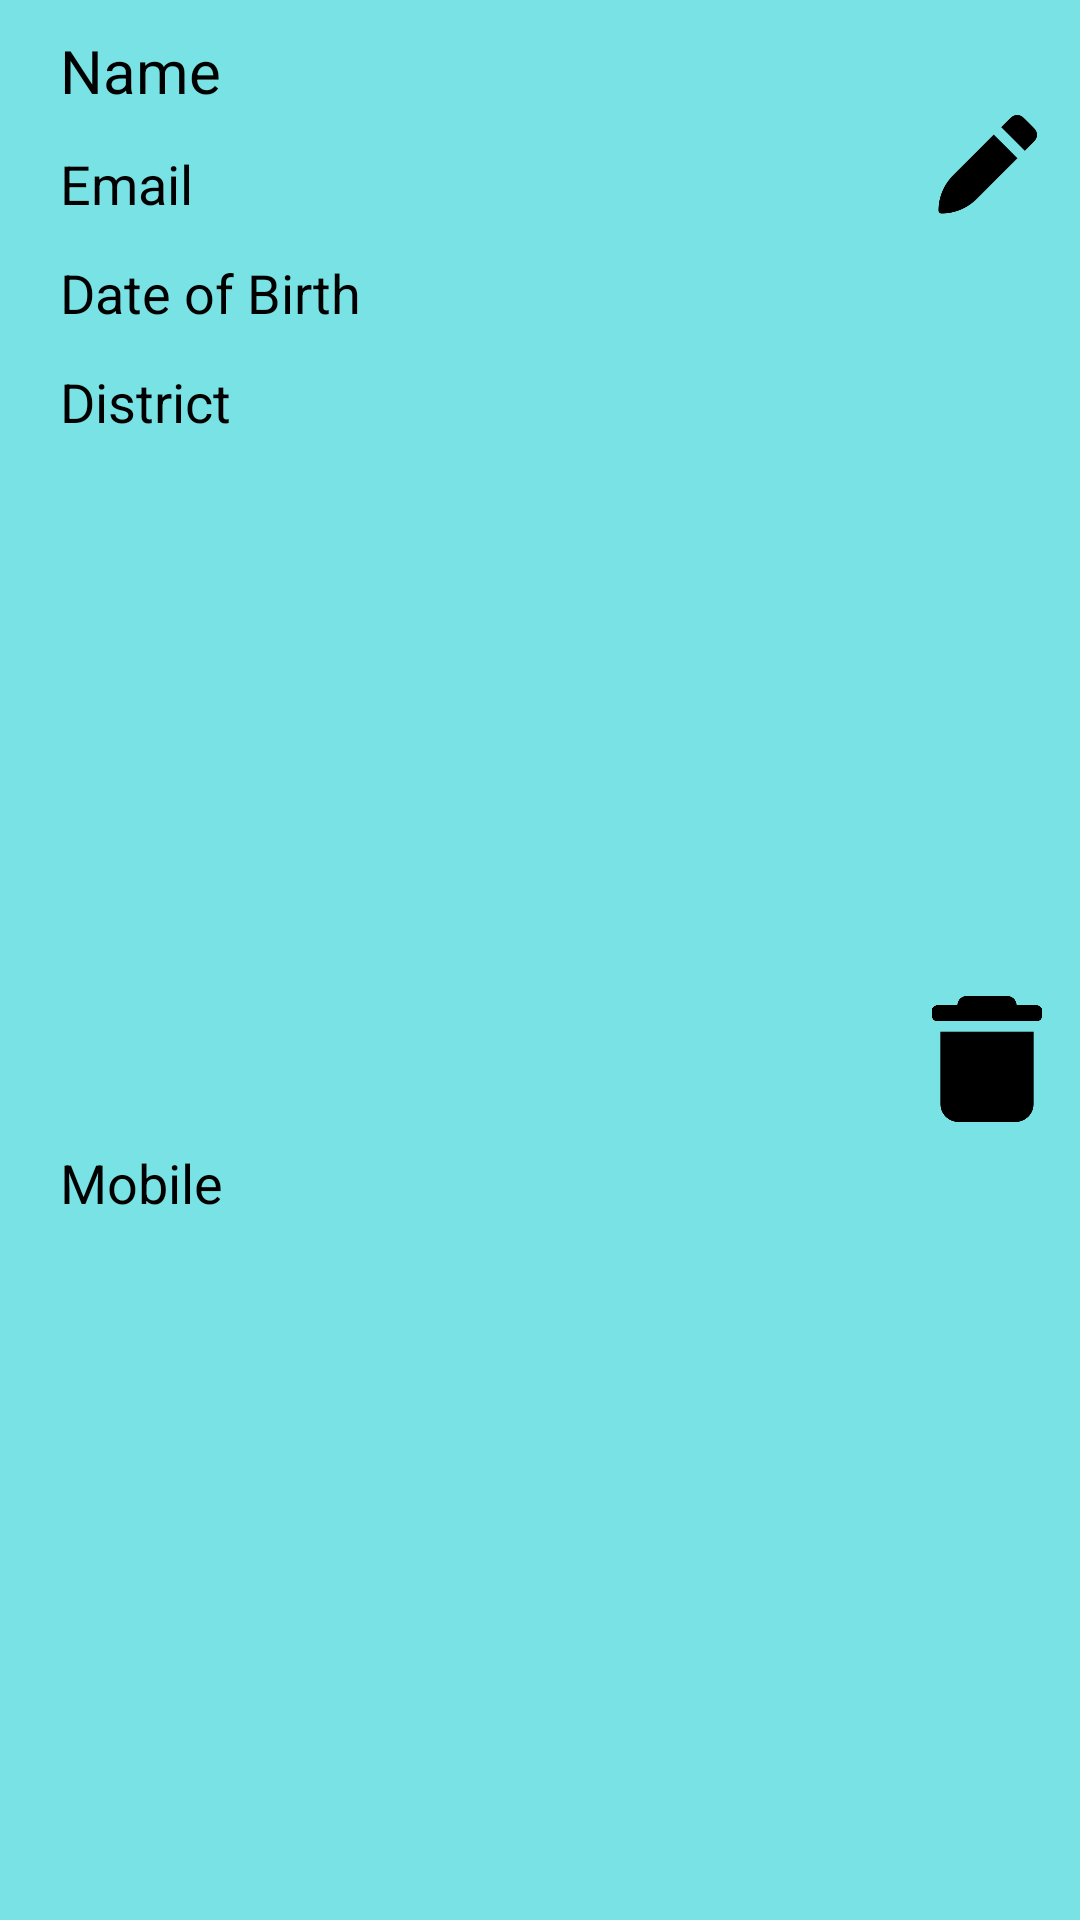

Icons on this 1080px×1920px Android screen, each with its box as (x1, y1, x2, y2):
delet: (932, 996, 1042, 1122)
eidit: (938, 115, 1037, 214)
